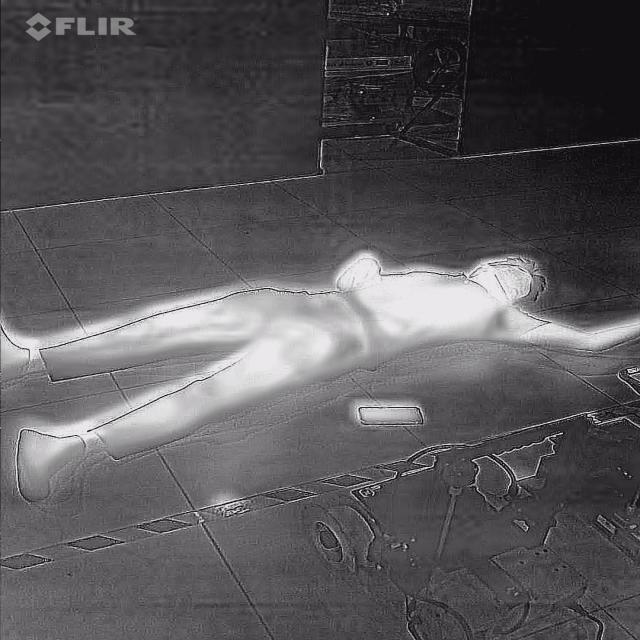Victim: (3, 242, 639, 502)
